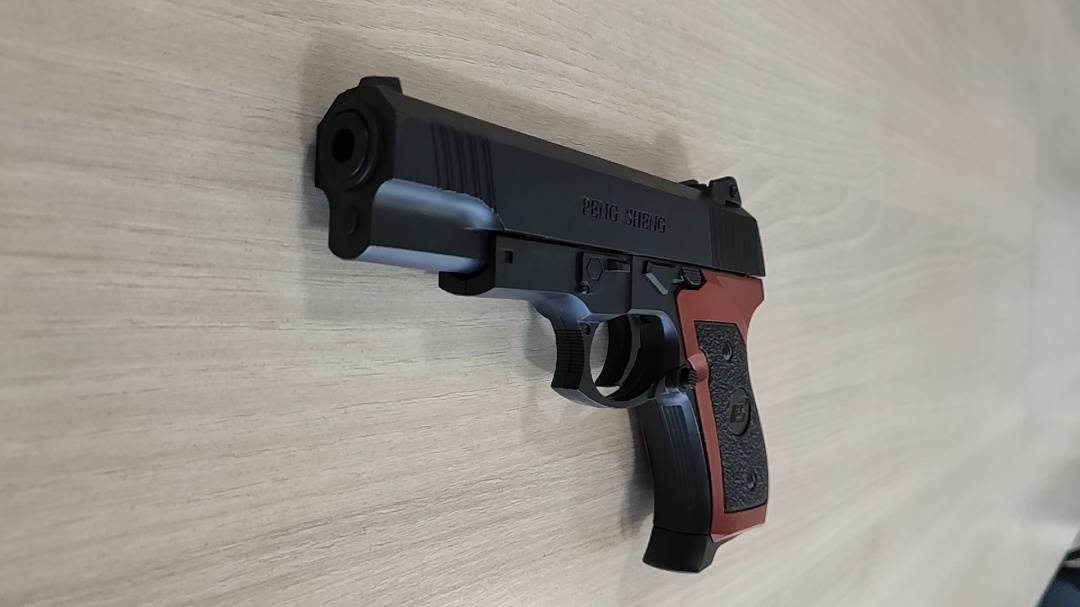gun: (611, 271, 664, 376)
